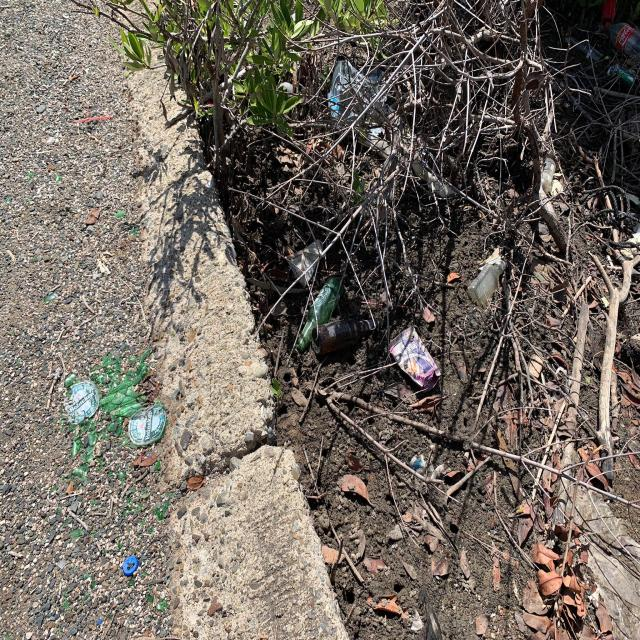litter: (49, 333, 182, 507), (321, 56, 451, 192), (380, 322, 445, 399), (460, 244, 514, 318), (537, 158, 564, 209)
